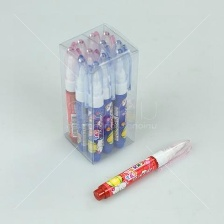correction_fluid: (91, 137, 195, 205), (111, 45, 134, 150), (84, 59, 107, 163), (99, 51, 117, 155), (74, 53, 92, 154), (61, 46, 79, 144)
plastic_box: (57, 20, 142, 166)
